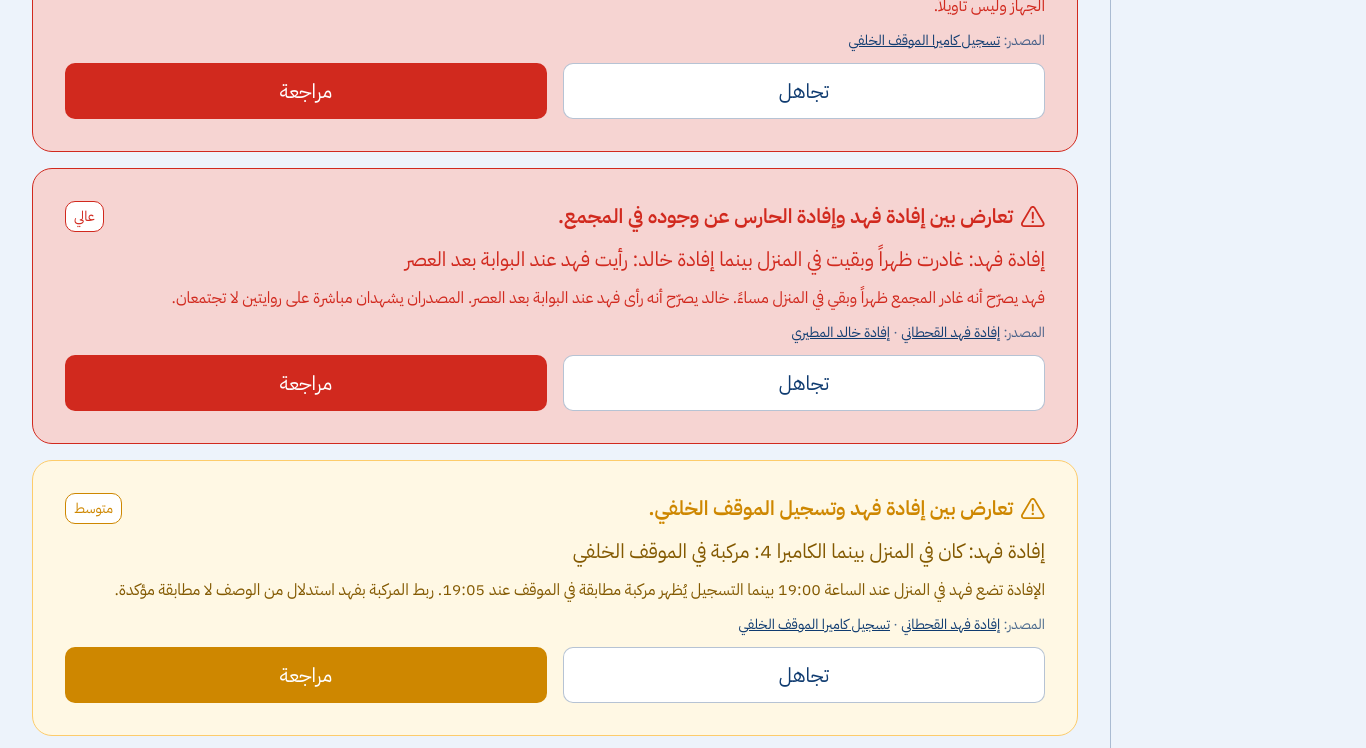
Scenario: analysis screen › keeps مراجعة and تجاهل on the card after the investigator acts
(page scrolled)
Click the button "مراجعة" below "الكاميرا 4: مركبة في الموقف الخلفي" at (306, 675), box [65,647,547,703]
(page scrolled)
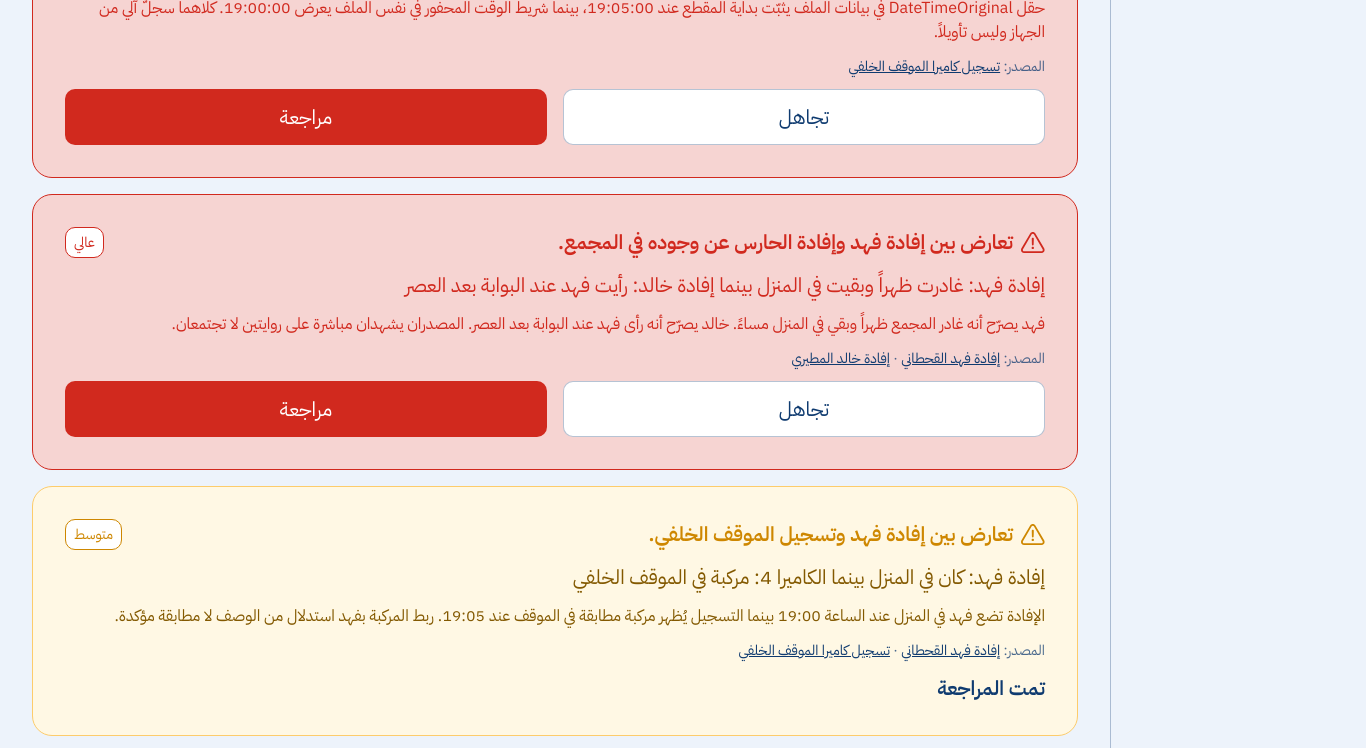
Check: the message reads "تمت المراجعة", box [937,673,1045,703]
Click the button "تجاهل" below "بيانات الملف: 19:05:00" at (804, 117), box [563,89,1045,145]
(page scrolled)
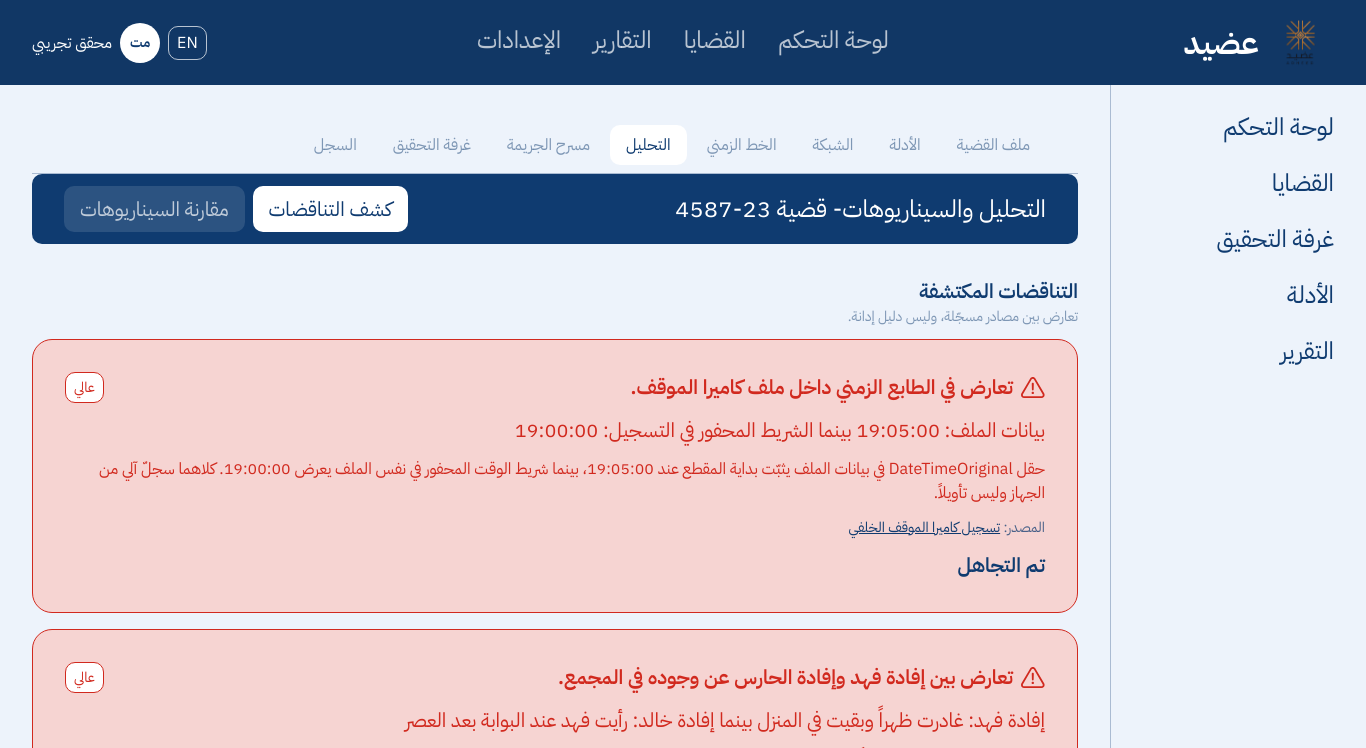
Check: the message reads "تم التجاهل", box [958,550,1045,580]
Click the tab "مقارنة السيناريوهات" at (154, 209), box [64,186,245,232]
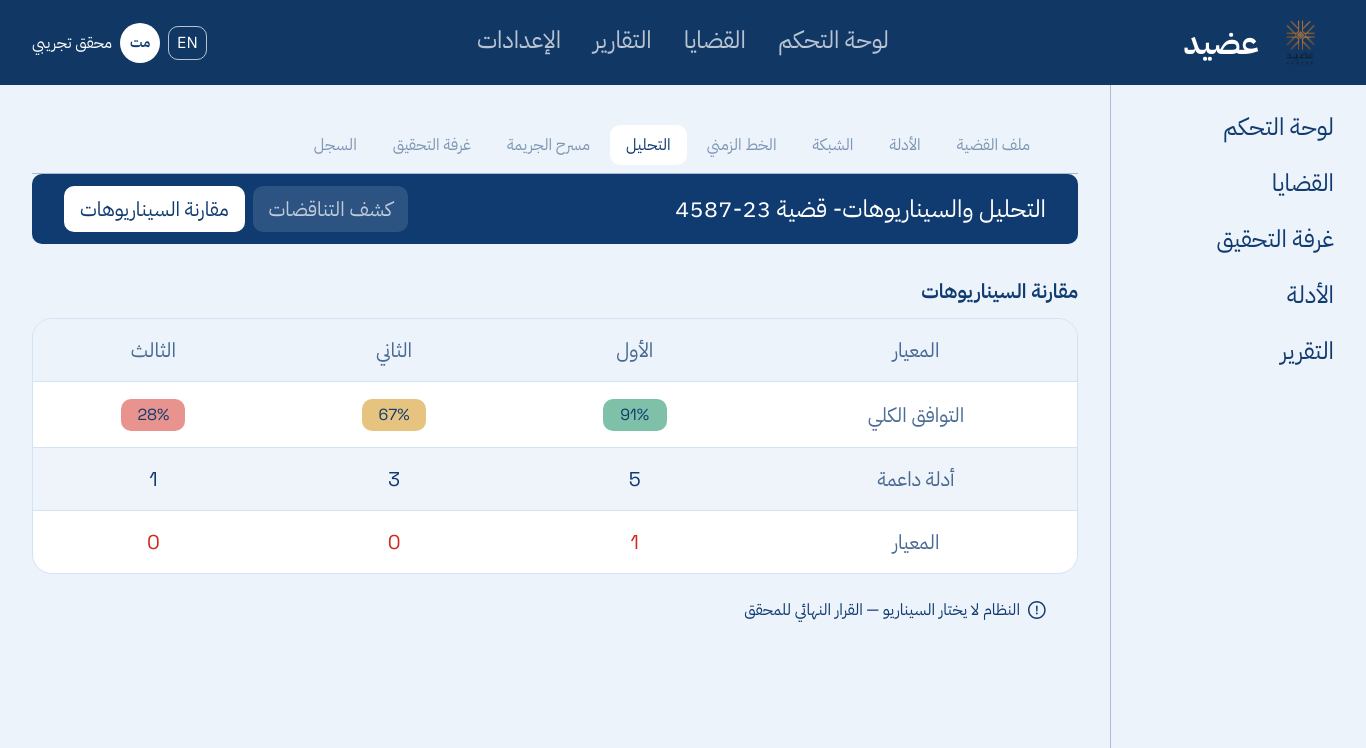
Check: the text "النظام لا يختار السيناريو — القرار النهائي للمحقق" is shown, box [744,598,1020,622]
Click the tab "كشف التناقضات" at (330, 209), box [253,186,408,232]
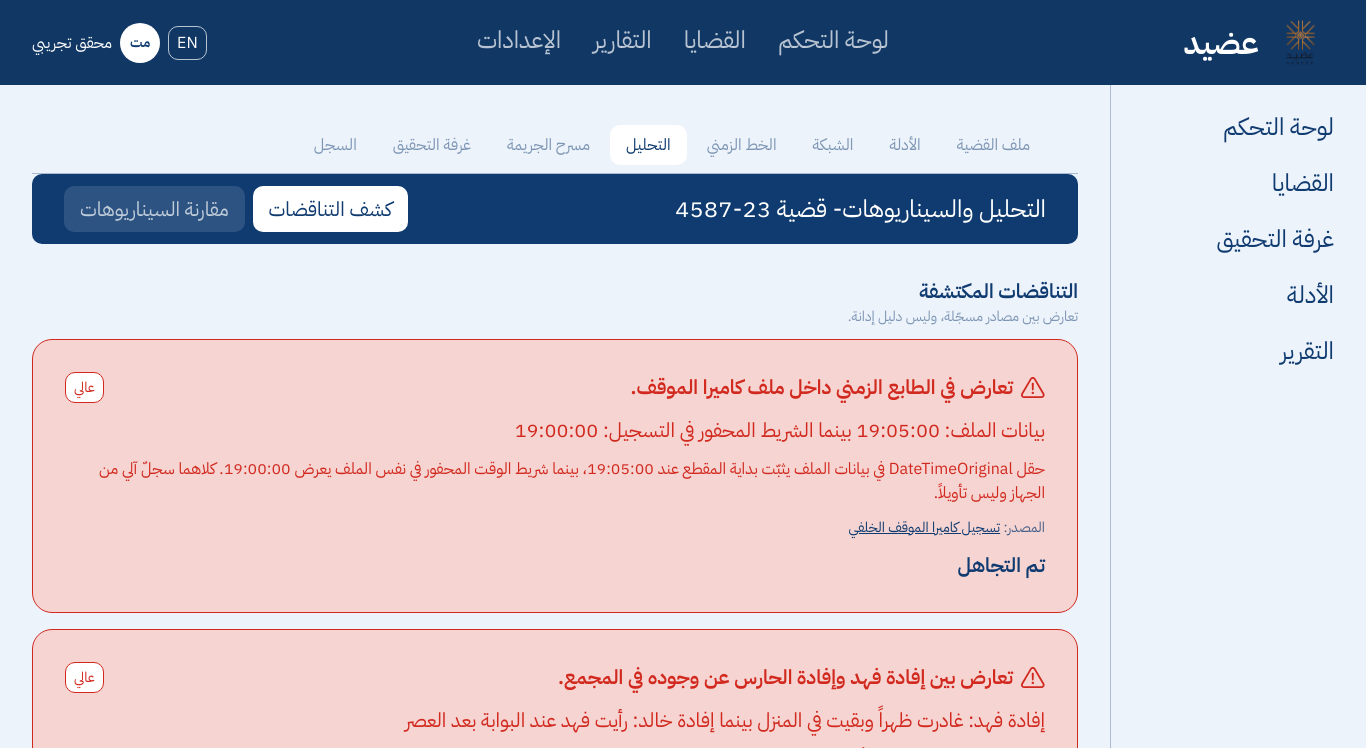
Check: the message reads "تم التجاهل", box [958,550,1045,580]
